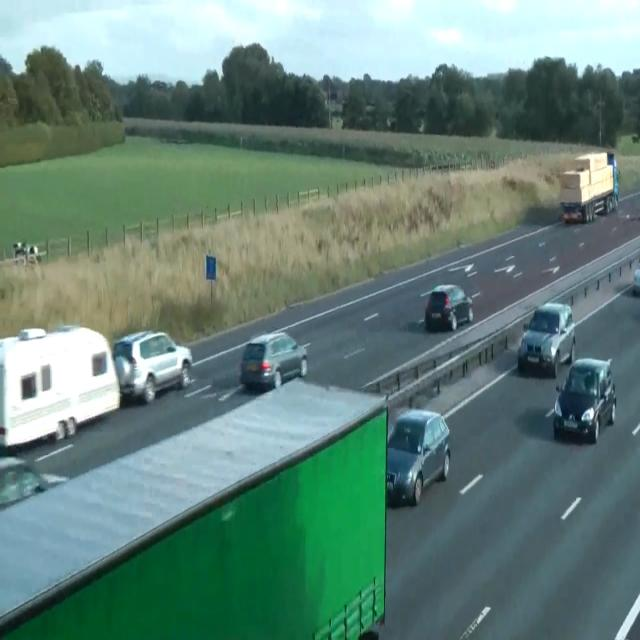bus: (386, 408, 450, 507), (238, 330, 308, 392), (0, 455, 47, 509), (424, 284, 473, 332), (13, 241, 41, 265), (558, 201, 582, 223), (633, 262, 639, 292)
car: (0, 322, 120, 450)
jeep: (112, 329, 192, 403), (552, 357, 616, 442), (517, 300, 575, 377)
minibus: (0, 380, 388, 639), (557, 150, 619, 223)
